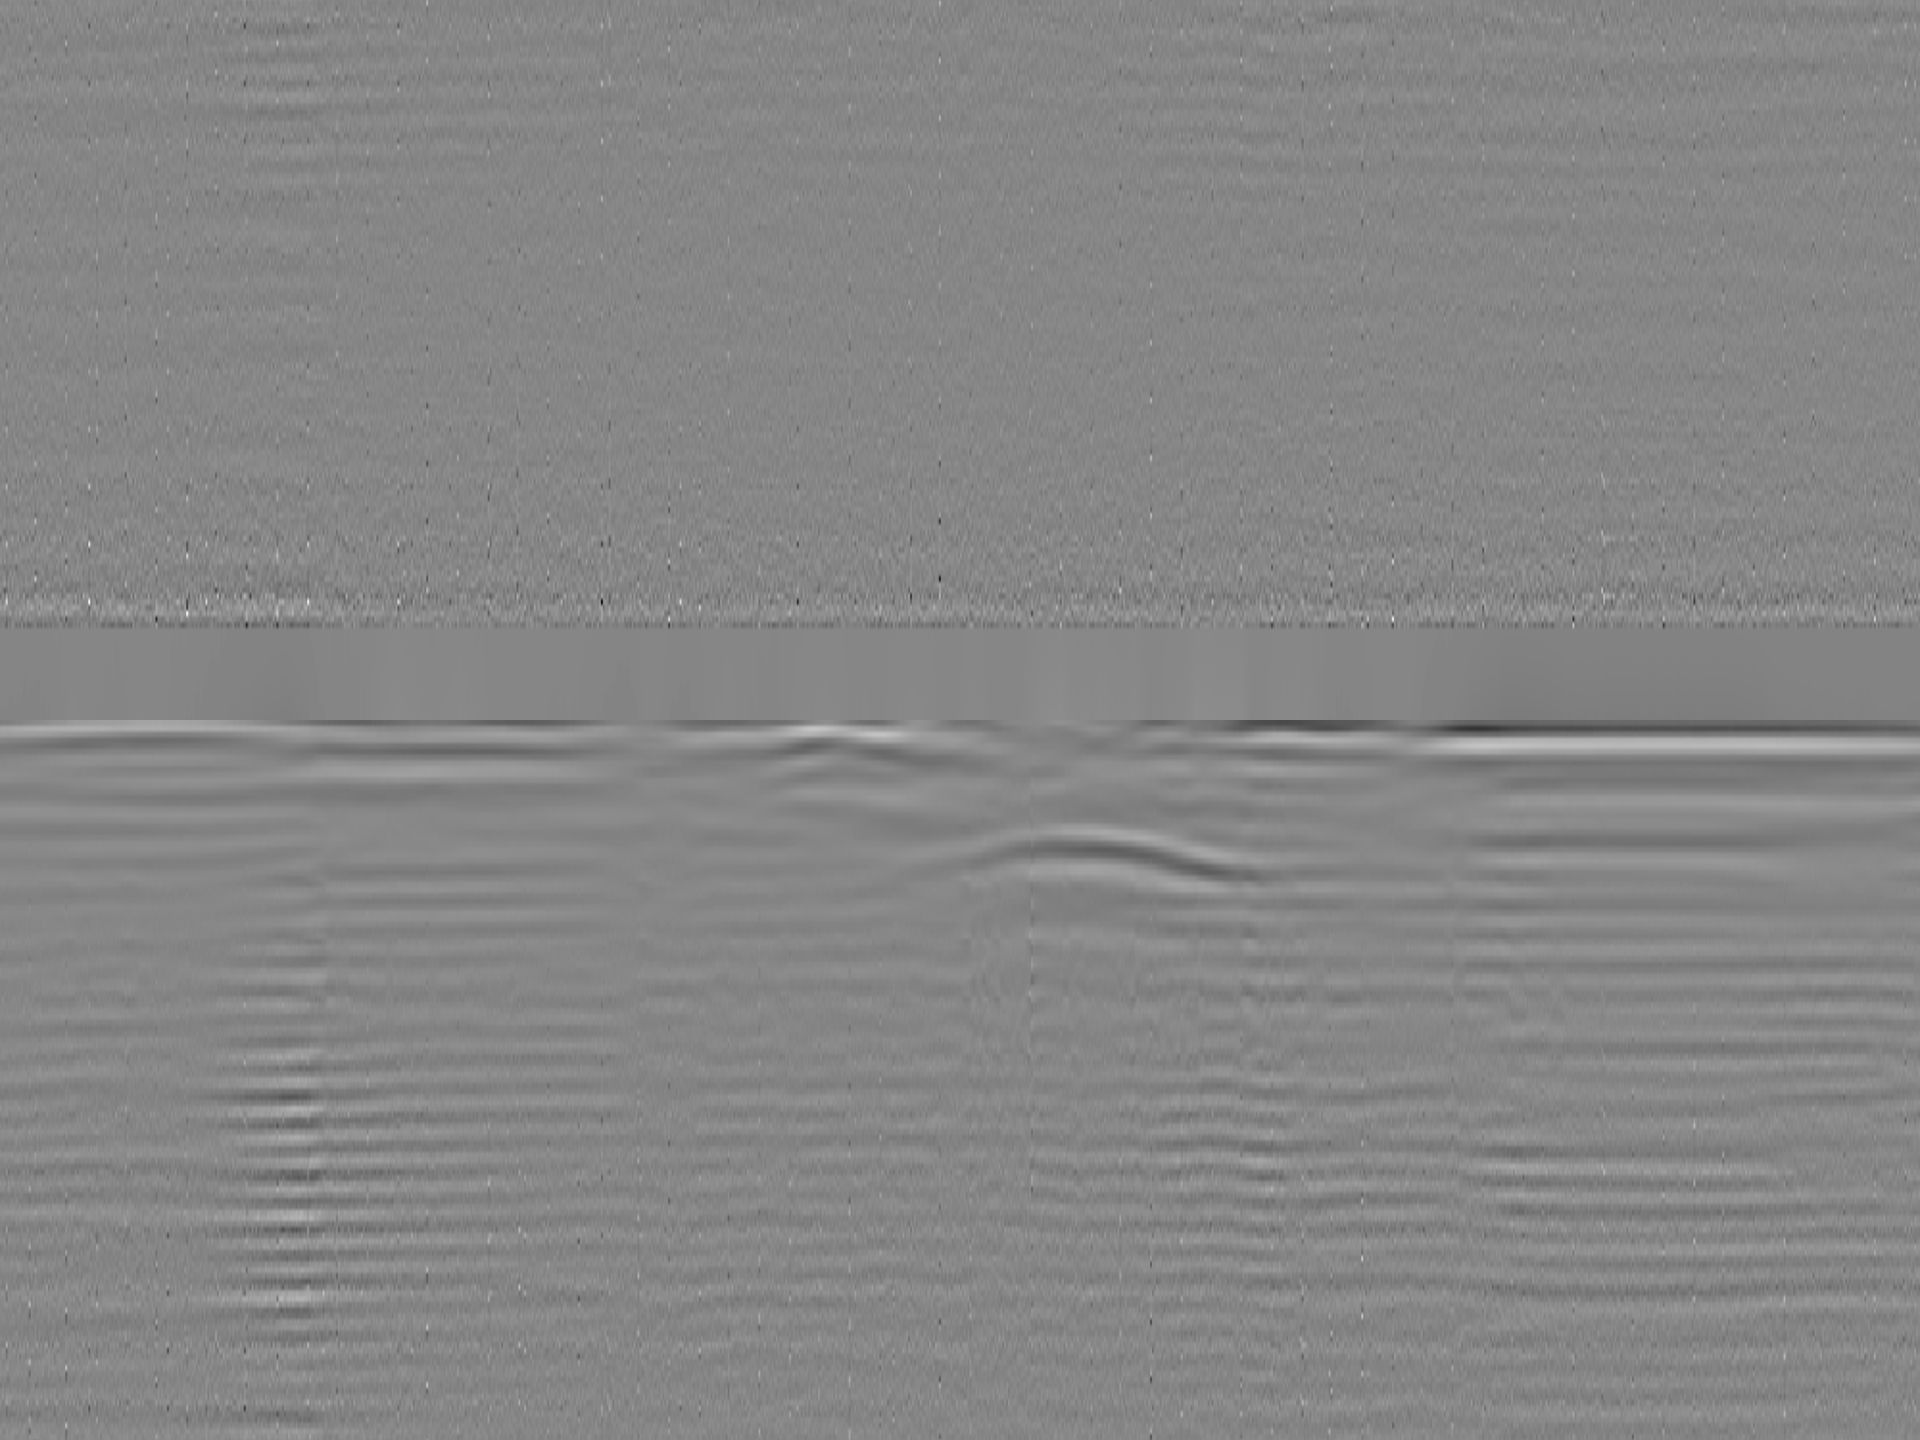Tunnel: (893, 824, 1277, 892)
